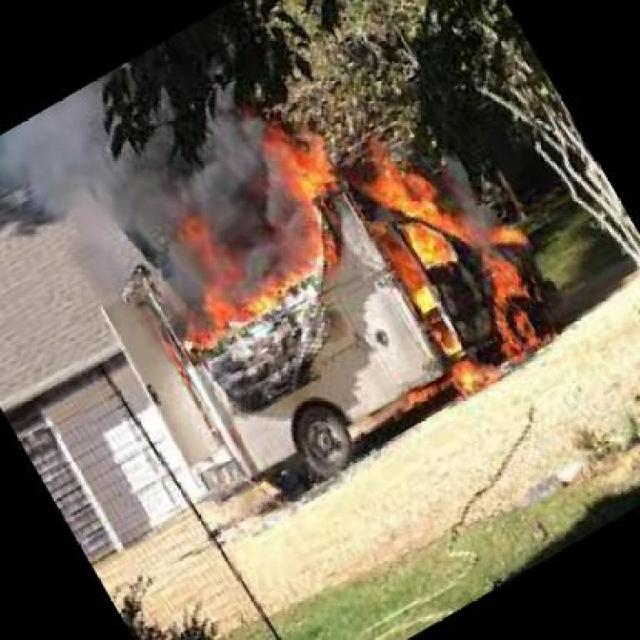fire: (334, 89, 612, 414), (117, 117, 408, 380)
